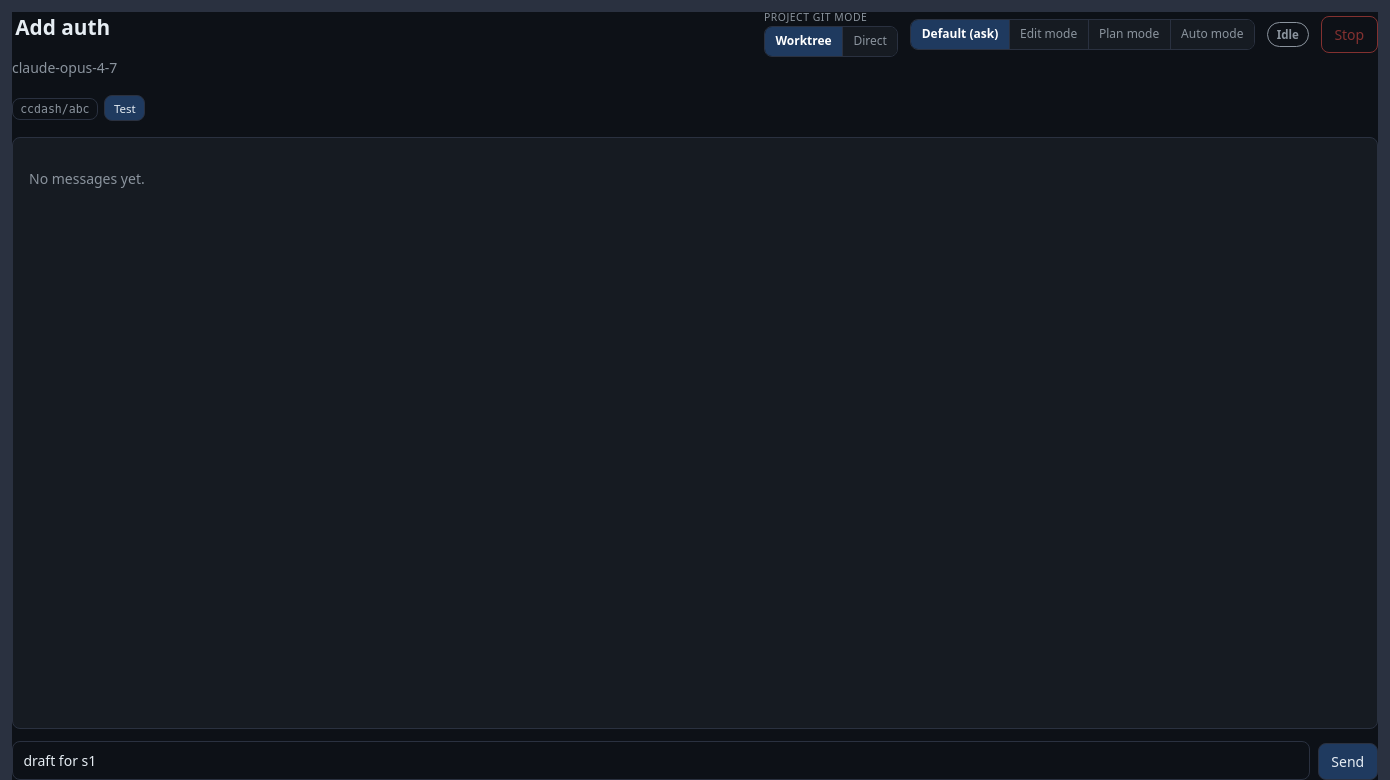
SessionView preview flow › surfaces a 409 conflict error from preview inline next to the Test button
Click the button "Test".
click(125, 108)  # box [104,95,146,121]
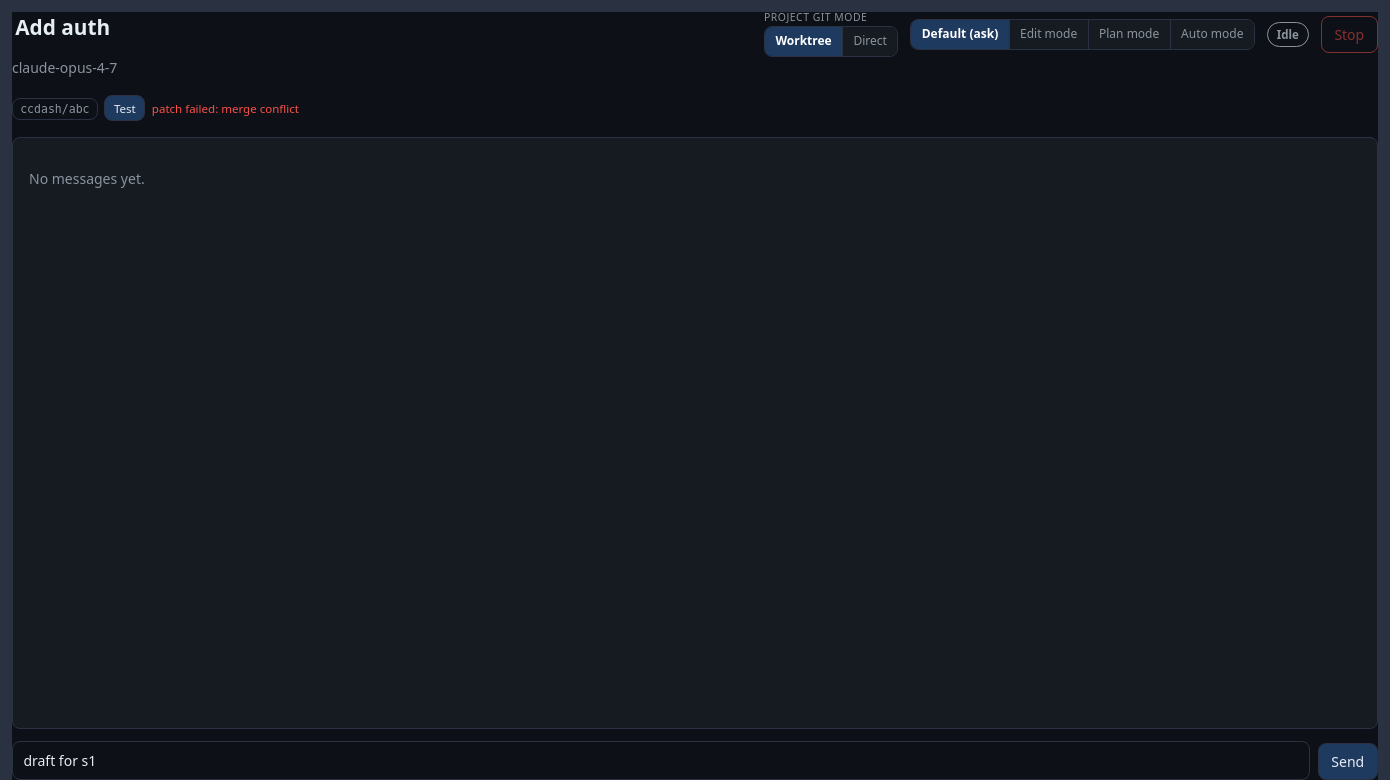
Expected: the text "patch failed: merge conflict" is shown, [152,100,299,117]
